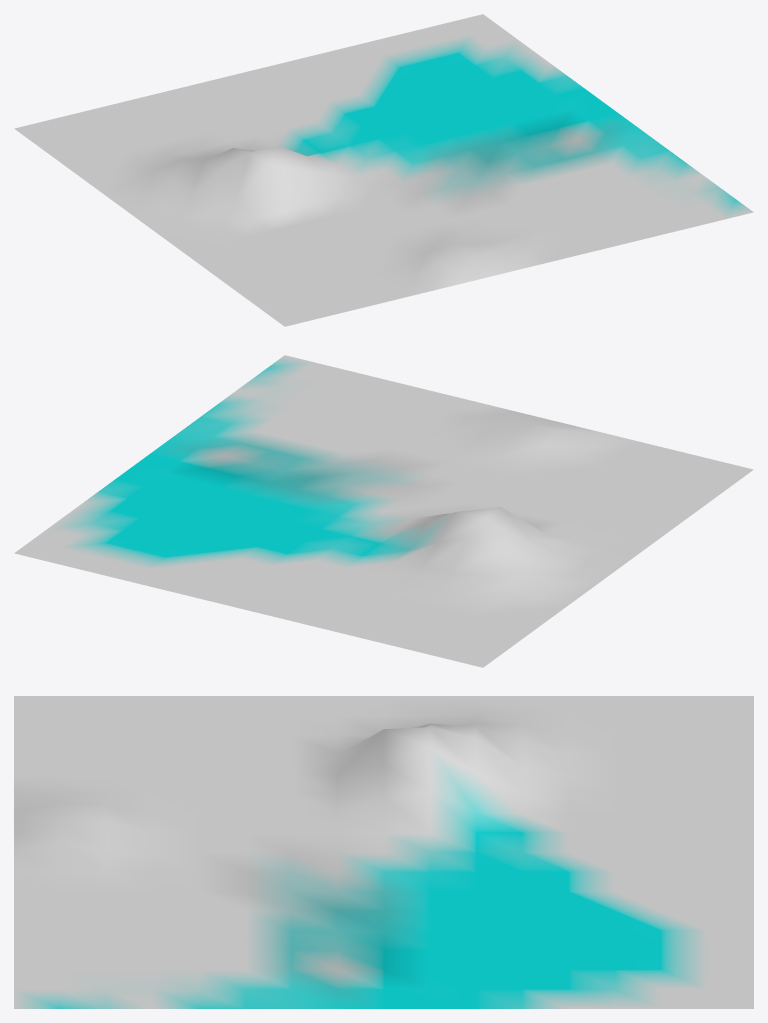
Rendered from big4.fbx.
3 renders of one model, top to bottom at view 1: azimuth 30°, elevation 25°; view 2: azimuth 150°, elevation 25°; view 3: azimuth 270°, elevation 25°, orthographic. The views are drawn at different scales.
Parts seen in each view (by area): view 1: m_tile01_20x20_01__1_; view 2: m_tile01_20x20_01__1_; view 3: m_tile01_20x20_01__1_.
Boxes of the visible parts, box(x1,y1,x2,y2) form: m_tile01_20x20_01__1_: box(14, 14, 753, 326); m_tile01_20x20_01__1_: box(14, 355, 753, 667); m_tile01_20x20_01__1_: box(14, 696, 753, 1008).
Size of the model in its own units: 2000 by 140 by 2000.
